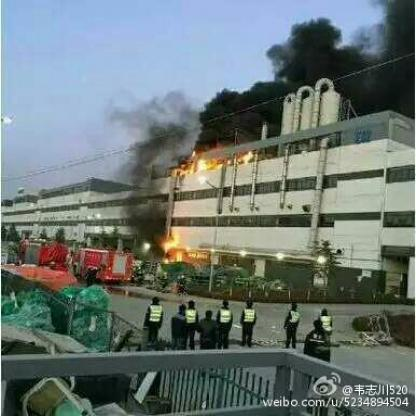fire: (168, 142, 256, 182), (148, 228, 200, 262)
other: (24, 238, 130, 285), (311, 309, 340, 335), (178, 302, 204, 324), (145, 302, 165, 322), (233, 248, 259, 262), (241, 304, 257, 324), (0, 105, 11, 127), (265, 251, 286, 261), (216, 310, 231, 324), (310, 252, 324, 265), (288, 308, 300, 323), (140, 240, 152, 251)
smoke: (269, 14, 411, 96), (117, 102, 170, 237), (192, 78, 279, 131)
